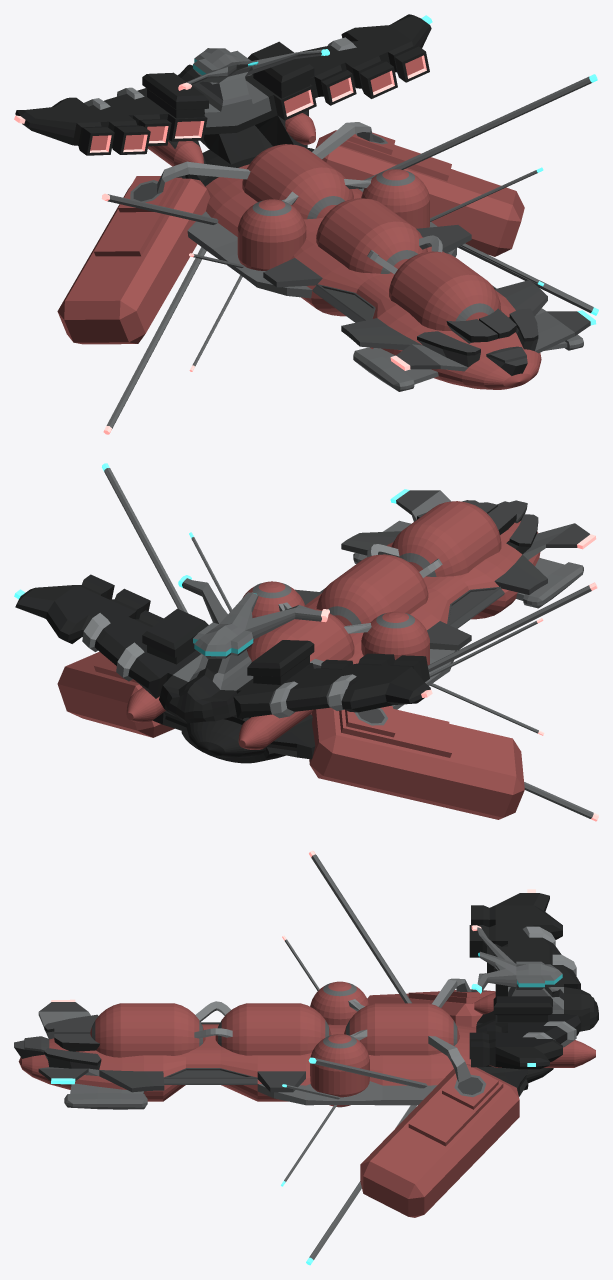
The model's file is Tanker_L_LODGroup.fbx.
The picture shows the model from 3 angles, top to bottom: view 1: azimuth 30°, elevation 25°; view 2: azimuth 150°, elevation 25°; view 3: azimuth 270°, elevation 25°; orthographic projection. The views are drawn at different scales.
Parts seen in each view (by area): view 1: Tanker L_LOD0; view 2: Tanker L_LOD0; view 3: Tanker L_LOD0.
Boxes of the visible parts, x1,y1,x2,y2 form: Tanker L_LOD0: [14, 14, 598, 434]; Tanker L_LOD0: [14, 463, 598, 821]; Tanker L_LOD0: [14, 850, 598, 1265].
Size of what is drawn, in the model's own units: 12.67 by 5.88 by 14.95.
